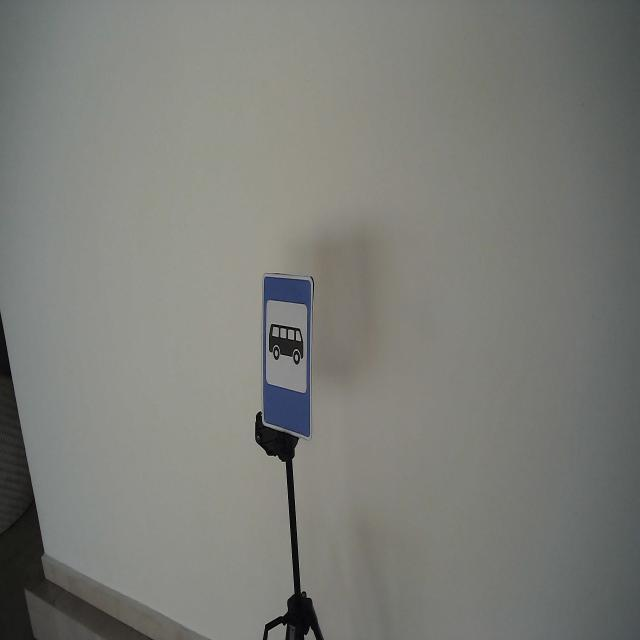bus_stop: (260, 270, 314, 443)
